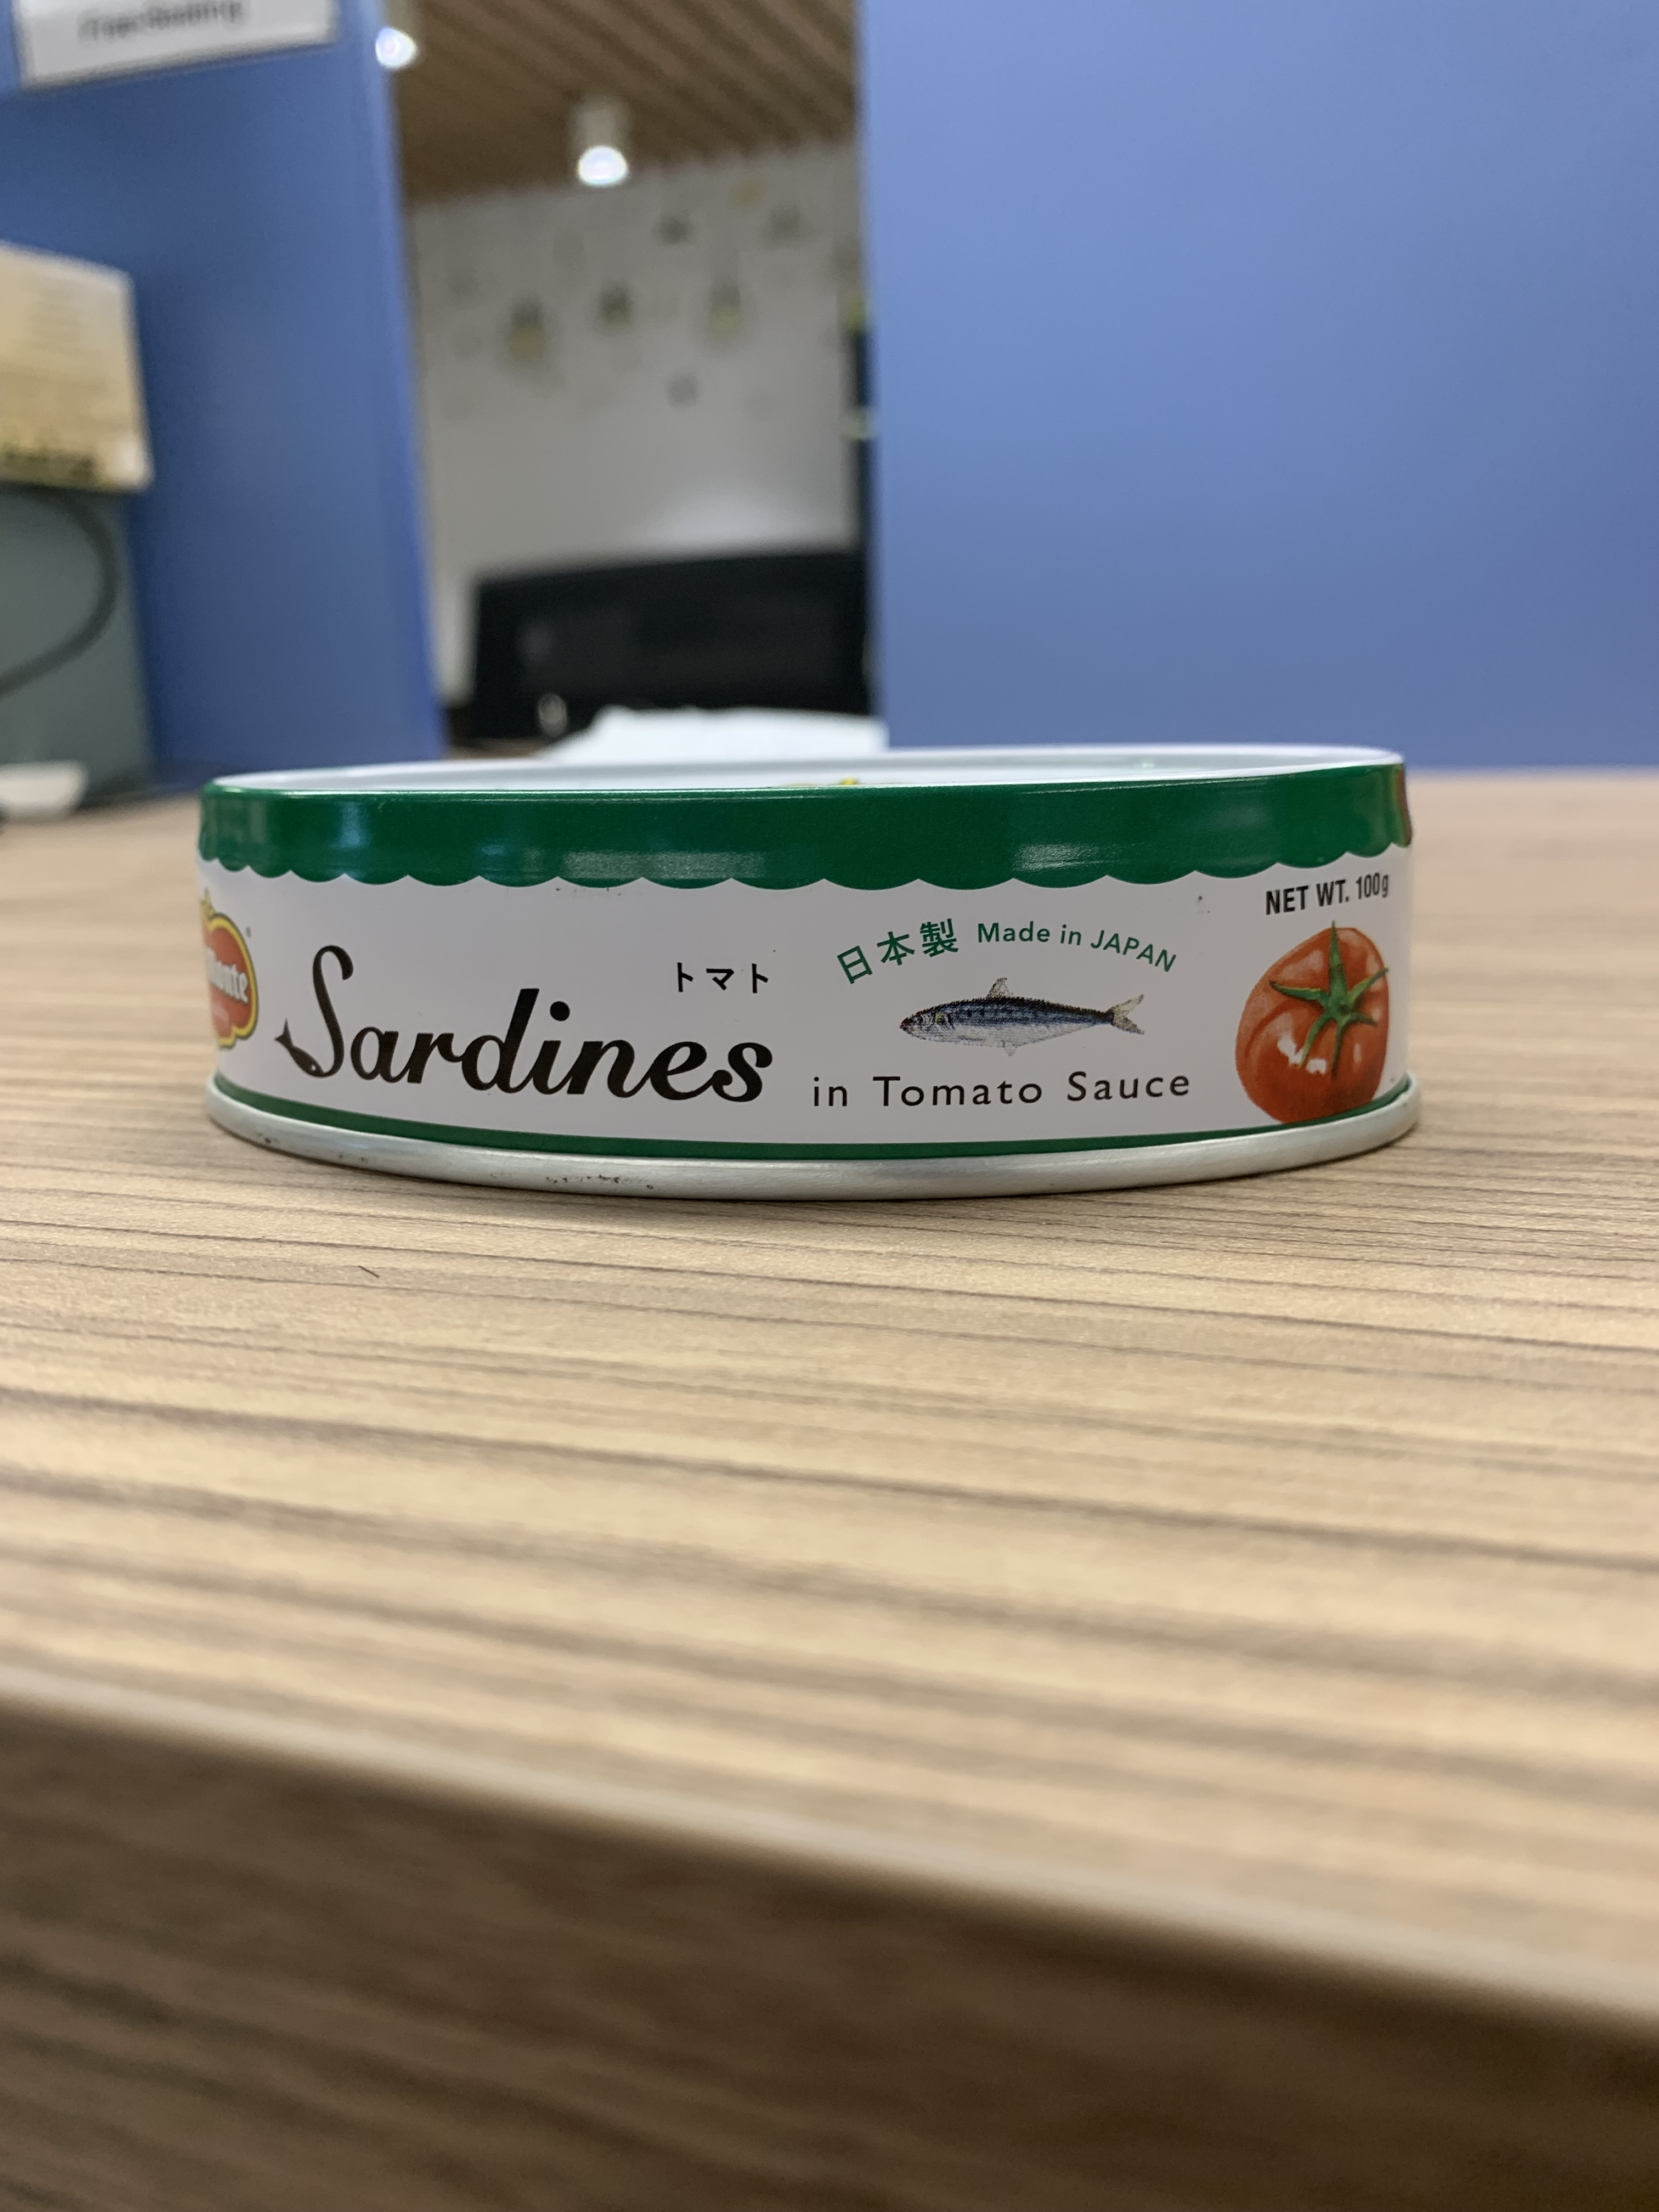sardines_100g-199g: (214, 829, 1434, 1151)
